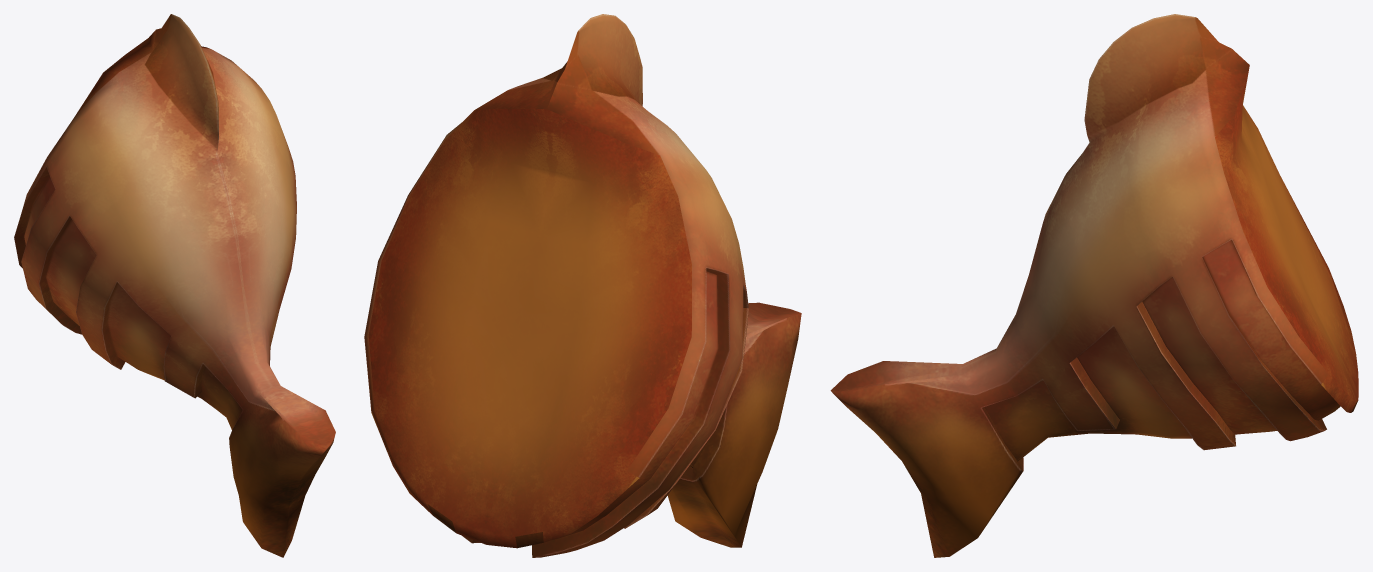
File: MD_boss_body.fbx
The picture shows the model from 3 angles, left to right: view 1: azimuth 30°, elevation 25°; view 2: azimuth 150°, elevation 25°; view 3: azimuth 270°, elevation 25°; orthographic projection. The views are drawn at different scales.
Parts seen in each view (by area): view 1: MD_body; view 2: MD_body; view 3: MD_body.
Boxes of the visible parts, x1,y1,x2,y2 form: MD_body: [14, 14, 335, 557]; MD_body: [364, 14, 801, 557]; MD_body: [830, 14, 1358, 557].
Size of the model in its own units: 27.03 by 47.69 by 41.97.
